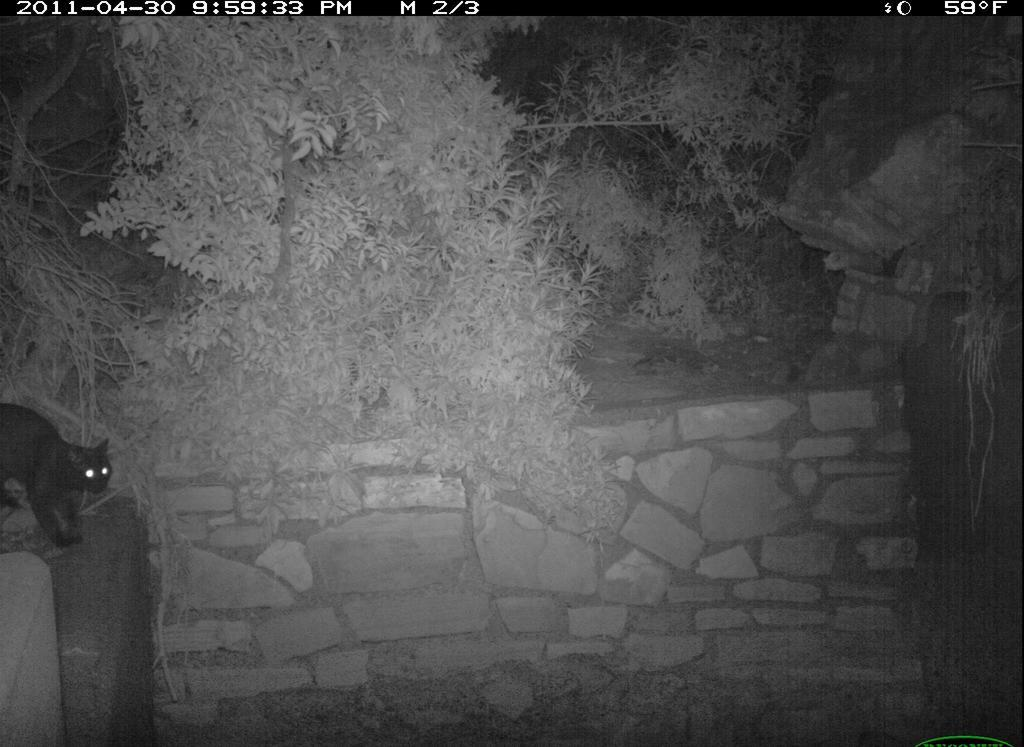cat: (4, 390, 127, 561)
